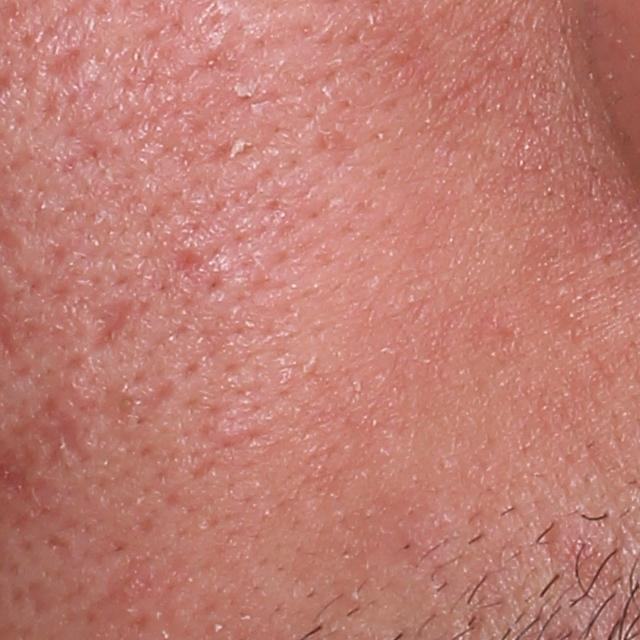atrophic_scar: (85, 296, 144, 359), (41, 39, 87, 102), (168, 245, 209, 284)
comedo: (111, 394, 138, 419)
